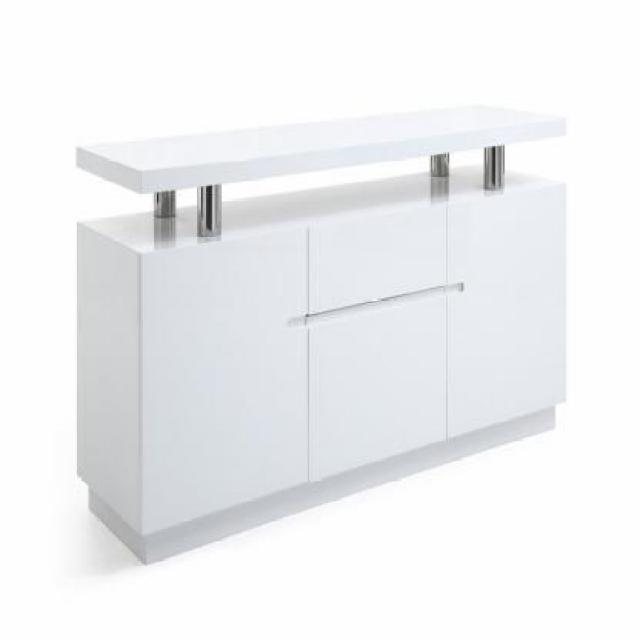table: (73, 100, 567, 566)
